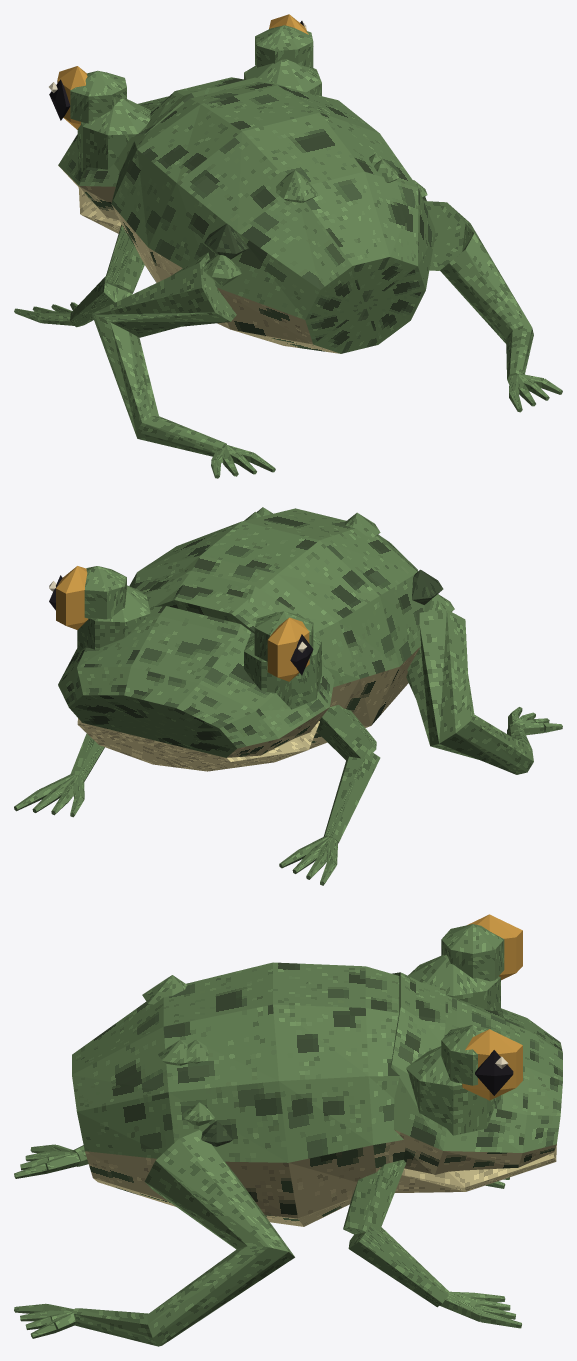
File: mon_strange_giganfrog.glb
3 renders of one model, top to bottom at view 1: azimuth 30°, elevation 25°; view 2: azimuth 150°, elevation 25°; view 3: azimuth 270°, elevation 25°, orthographic. The views are drawn at different scales.
Visible parts, largest first — view 1: closed_body; view 2: closed_body; view 3: closed_body.
Boxes of the visible parts, x1,y1,x2,y2 form: closed_body: [14, 14, 562, 478]; closed_body: [14, 507, 562, 885]; closed_body: [14, 914, 562, 1346].
Bounding box in the file's own units: 1.48 × 0.8789 × 1.59.
Materials: 1 (1 with a texture image).
